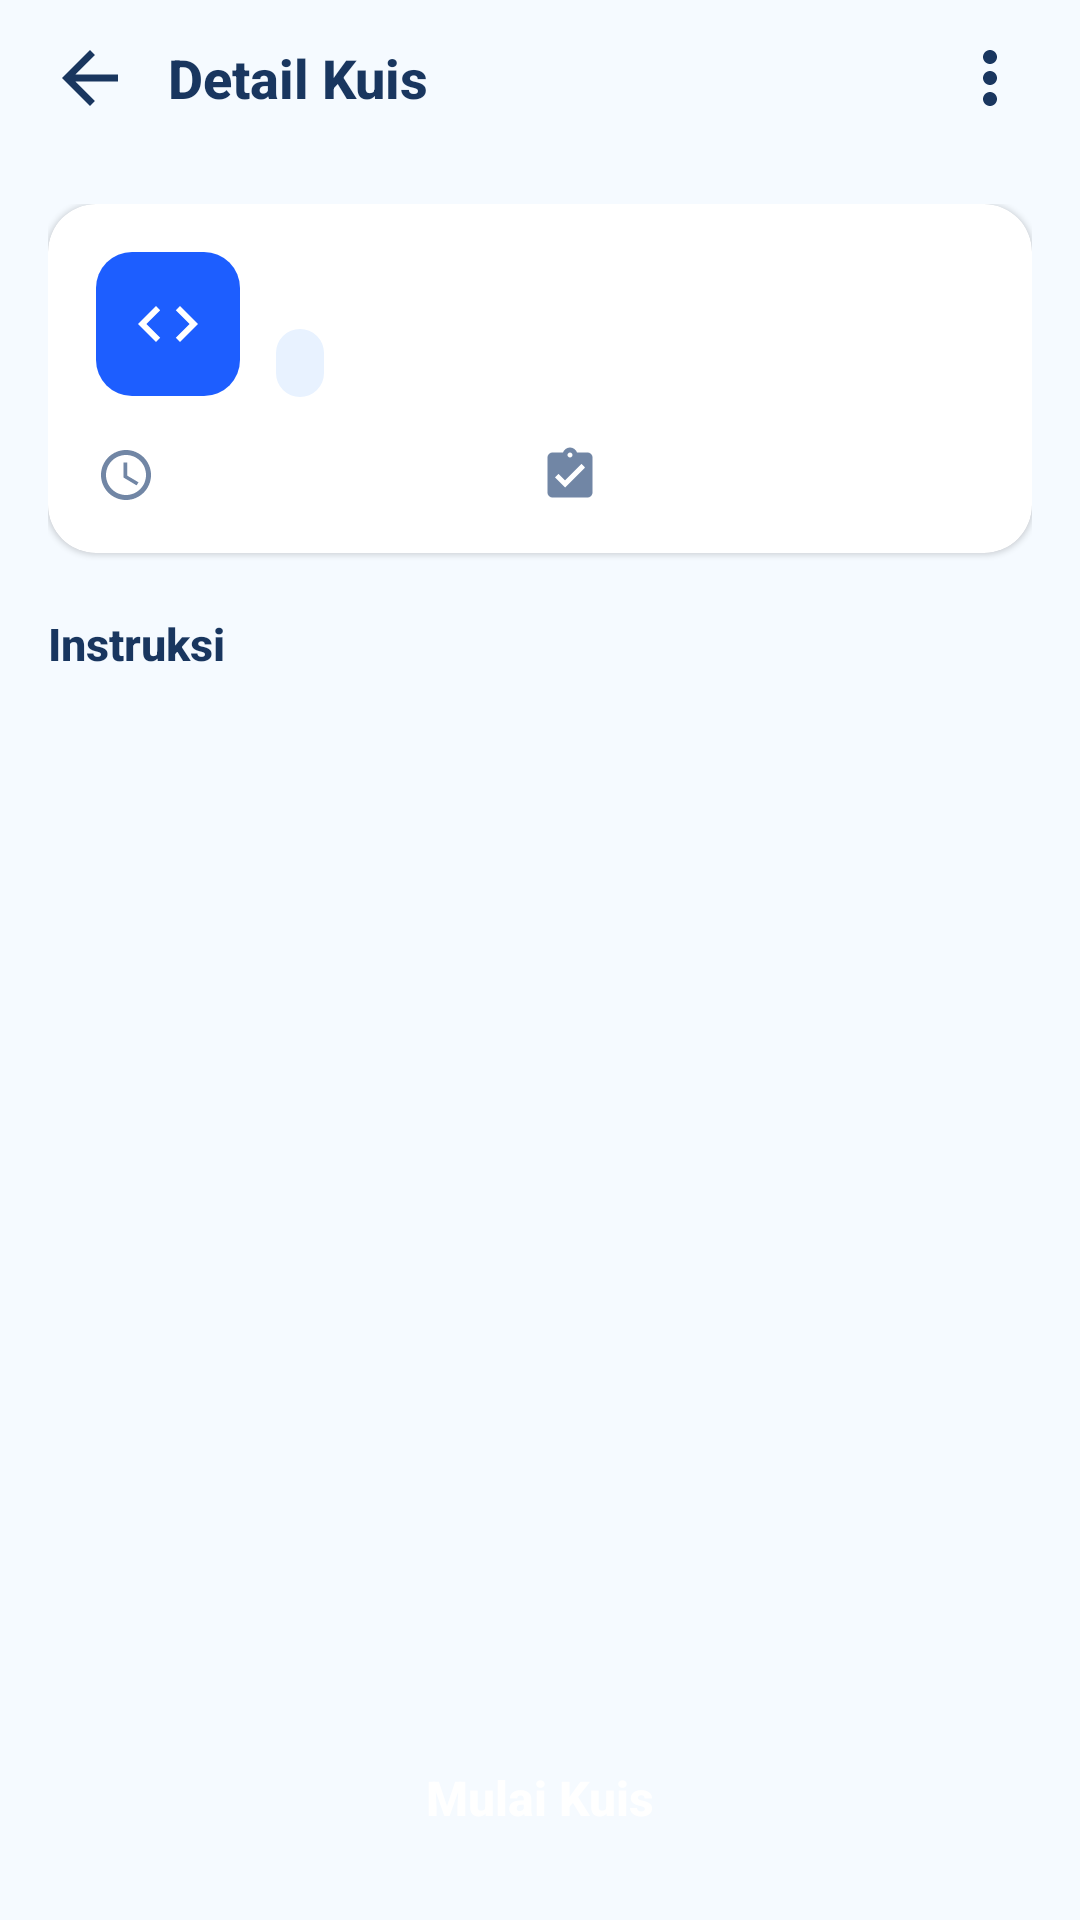

Where to tap for icons on this 1080 x 1920 app screen, as [x,y]:
assignment check: [570,472]
back: [90,78]
clock: [126,475]
code: [168,324]
more vert: [990,78]
